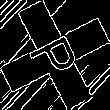P_NE: (24, 27, 86, 83)
